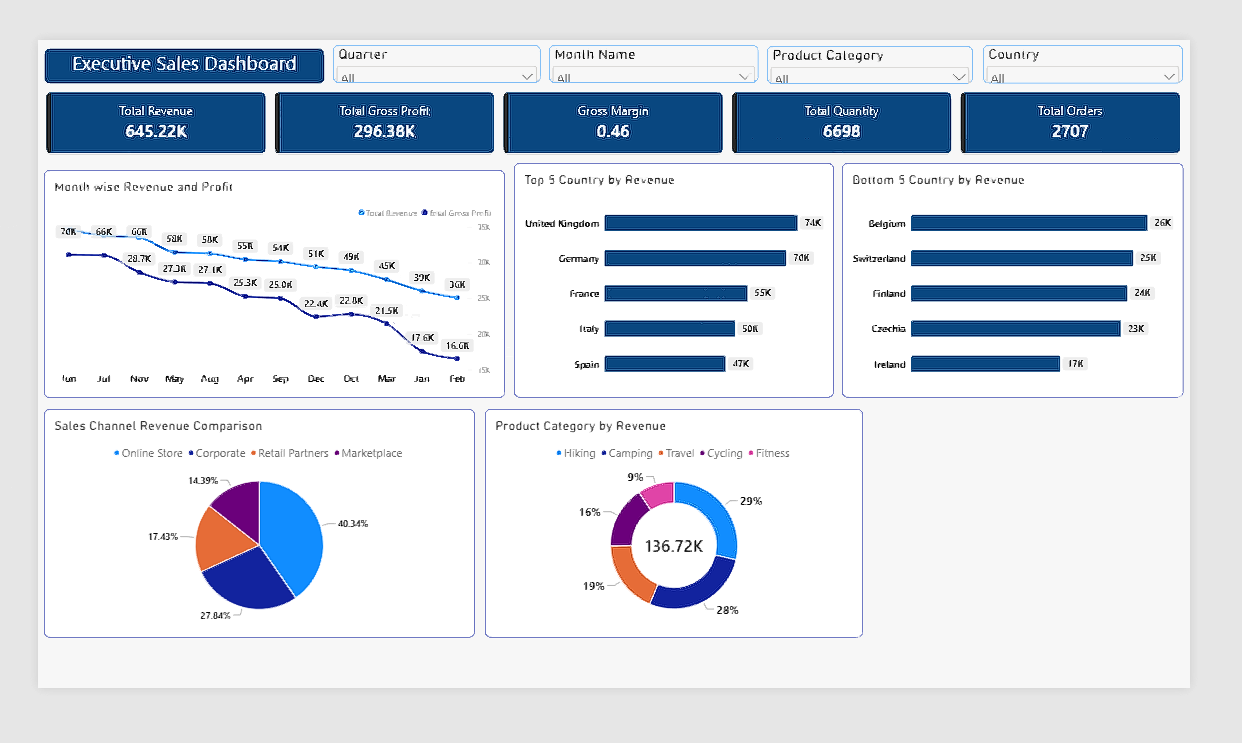

Layout of this report page (visuals, bound fields, positions):
{"tool":"powerbi","page":{"name":"Page 1","canvas":[1920,1080],"ordinal":0},"visuals":[{"type":"cardVisual","fields":{"Data":["All_Measures.Total Revenue","All_Measures.Total Gross Profit","All_Measures.Gross Margin","All_Measures.Total Quantity","All_Measures.Total Orders"]},"box":[10.2,83.2,1898.1,109.4],"z":0},{"type":"pieChart","title":"Sales Channel Revenue Comparison","fields":{"Category":["Sales_Data.Sales Channel"],"Y":["All_Measures.Total Revenue"]},"box":[10.2,615.7,717.8,380.8],"z":0,"group":"g1"},{"type":"donutChart","title":"Product Category by Revenue","fields":{"Category":["Sales_Data.Product Category"],"Y":["All_Measures.Total Gross Profit"]},"box":[745.5,615.7,630.3,380.8],"z":0},{"type":"textbox","box":[10.2,13.1,468.3,59.8],"z":1},{"type":"slicer","fields":{"Values":["Date_Table.Month_Name"]},"box":[851.7,8.3,348.7,62.7],"z":2},{"type":"slicer","fields":{"Values":["Date_Table.Quarter"]},"box":[491.7,8.3,345.8,62.7],"z":4},{"type":"slicer","fields":{"Values":["Sales_Data.Country"]},"box":[1575,8.3,332.6,64.2],"z":5},{"type":"slicer","fields":{"Values":["Sales_Data.Product Category"]},"box":[1215,10,342.9,62.7],"z":6},{"type":"lineChart","title":"Month wise Revenue and Profit","fields":{"Category":["Date_Table.Month_Name"],"Y":["All_Measures.Total Revenue"],"Y2":["All_Measures.Total Gross Profit"]},"box":[10,216.7,768.3,380],"z":8},{"type":"clusteredBarChart","title":"Top 5 Country by Revenue","fields":{"Category":["Sales_Data.Country"],"Y":["All_Measures.Total Revenue"]},"box":[793.7,205.7,532.5,391],"z":9},{"type":"group","id":"g1","title":"Group 2","box":[10.2,615.7,717.8,380.8],"z":12},{"type":"clusteredBarChart","title":"Bottom 5 Country by Revenue","fields":{"Category":["Sales_Data.Country"],"Y":["All_Measures.Total Revenue"]},"box":[1339.3,205.7,569,391],"z":1000}]}

Visuals, with their boxes on the page's 1920x1080 design canvas (x1, y1, x2, y2). These are canvas units, not pixel positions in the 1242x743 screenshot, which may show the page scaled, cropped or inside an application window:
cardVisual - All_Measures.Total Revenue x All_Measures.Total Gross Profit: bbox=[10, 83, 1908, 193]
"Sales Channel Revenue Comparison" pieChart: bbox=[10, 616, 728, 996]
"Product Category by Revenue" donutChart: bbox=[746, 616, 1376, 996]
textbox: bbox=[10, 13, 478, 73]
slicer - Date_Table.Month_Name: bbox=[852, 8, 1200, 71]
slicer - Date_Table.Quarter: bbox=[492, 8, 838, 71]
slicer - Sales_Data.Country: bbox=[1575, 8, 1908, 72]
slicer - Sales_Data.Product Category: bbox=[1215, 10, 1558, 73]
"Month wise Revenue and Profit" lineChart: bbox=[10, 217, 778, 597]
"Top 5 Country by Revenue" clusteredBarChart: bbox=[794, 206, 1326, 597]
"Group 2" group: bbox=[10, 616, 728, 996]
"Bottom 5 Country by Revenue" clusteredBarChart: bbox=[1339, 206, 1908, 597]
